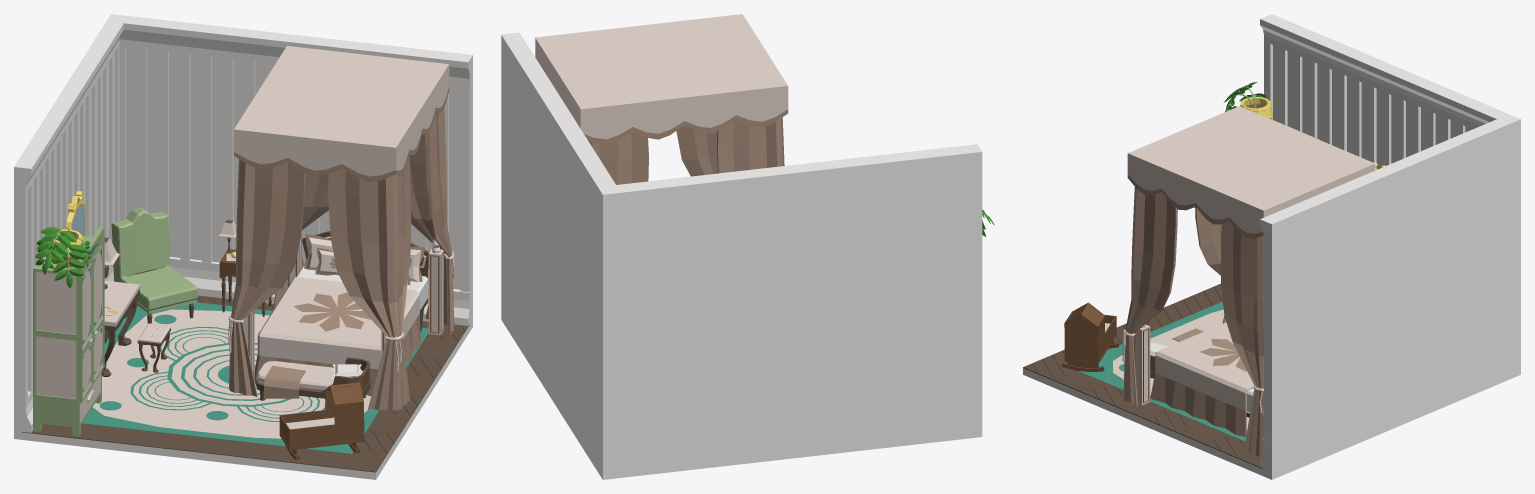
The model's file is Room_7_Bedroom.fbx.
3 views of the same model, side by side, from view 1: azimuth 30°, elevation 25°; view 2: azimuth 150°, elevation 25°; view 3: azimuth 270°, elevation 25° (orthographic). The views are drawn at different scales.
Visible parts, largest first — view 1: Room_7_Base, Room_7_Canopy_bed, Room_7_Carpet, Room_7_Cupboard, Room_7_Bed, Room_7_Parquet_1, Room_7_Armchair, Room_7_Cradle, Room_7_Couch, Room_7_Flower, Room_7_Table, Room_7_Chair (+4 smaller); view 2: Room_7_Base, Room_7_Canopy_bed; view 3: Room_7_Base, Room_7_Canopy_bed, Room_7_Bed, Room_7_Parquet_1, Room_7_Cradle, Room_7_Carpet, Room_7_Flower.
Boxes of the visible parts, x1,y1,x2,y2 form: Room_7_Base: (14,14,472,479); Room_7_Canopy_bed: (228,46,454,410); Room_7_Carpet: (82,302,428,453); Room_7_Cupboard: (33,226,104,436); Room_7_Bed: (254,231,429,395); Room_7_Parquet_1: (22,295,469,472); Room_7_Armchair: (111,207,197,323); Room_7_Cradle: (279,382,364,460); Room_7_Couch: (256,357,370,400); Room_7_Flower: (35,227,91,288); Room_7_Table: (102,280,139,376); Room_7_Chair: (137,323,170,372); Room_7_Base: (501,32,982,479); Room_7_Canopy_bed: (535,14,788,184); Room_7_Base: (1023,14,1520,479); Room_7_Canopy_bed: (1122,106,1375,456); Room_7_Bed: (1150,322,1254,436); Room_7_Parquet_1: (1023,283,1262,468); Room_7_Cradle: (1061,302,1119,371); Room_7_Carpet: (1078,301,1249,441); Room_7_Flower: (1223,82,1272,119).
Bounding box in the file's own units: 707 × 707 × 402.
